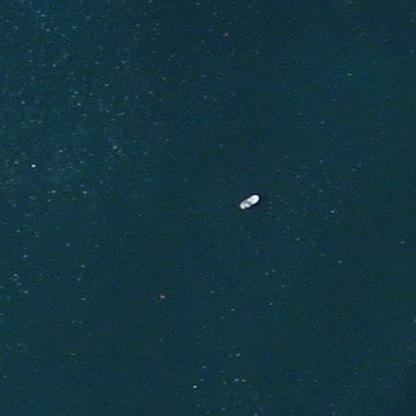ship: (235, 23, 260, 44)
